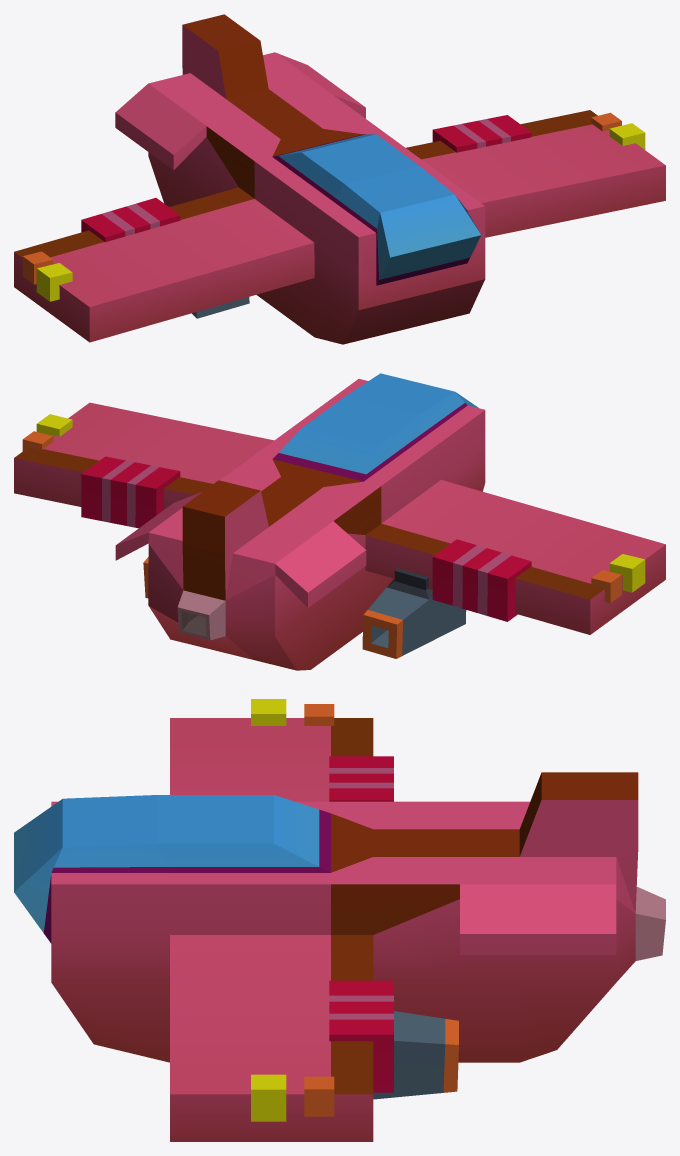
File: сиреневый самолет.fbx
3 views of the same model, one above another, from view 1: azimuth 30°, elevation 25°; view 2: azimuth 150°, elevation 25°; view 3: azimuth 270°, elevation 25° (orthographic). The views are drawn at different scales.
Visible parts, largest first — view 1: Cube.016; view 2: Cube.016; view 3: Cube.016.
Boxes of the visible parts, x1,y1,x2,y2 form: Cube.016: (14, 14, 665, 344); Cube.016: (14, 373, 665, 670); Cube.016: (14, 699, 665, 1141).
Bounding box in the file's own units: 940 × 264 × 664.
